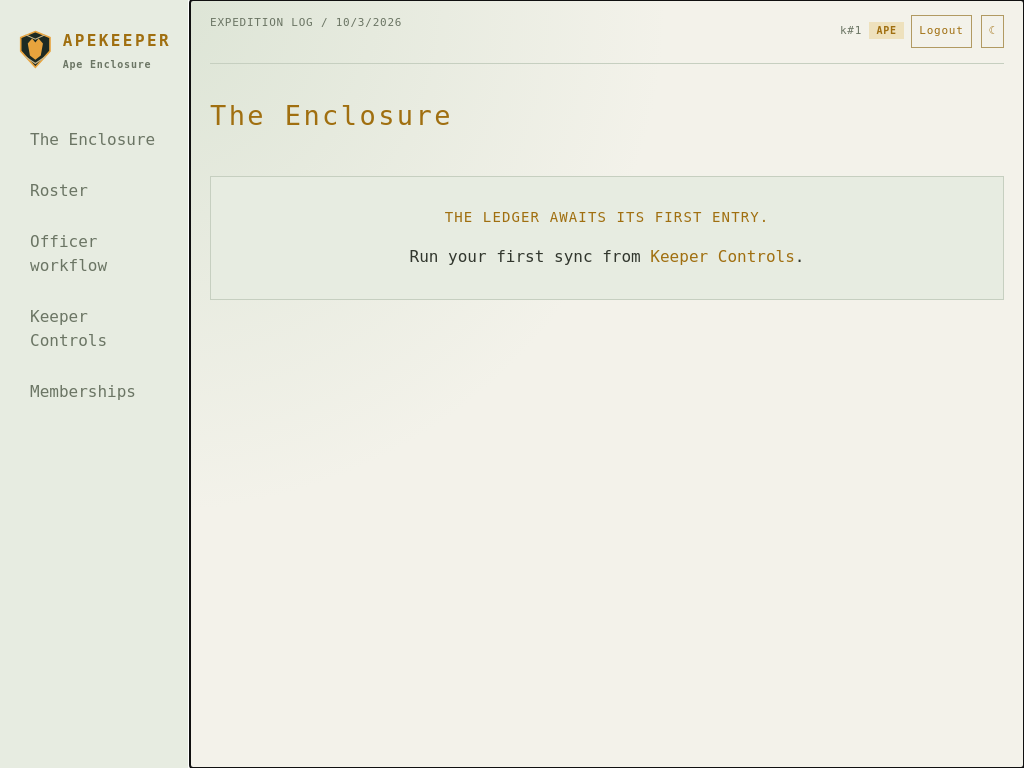
Test: App resilience and navigation › exposes logout failures instead of leaving a rejected promise
The width and height of the screenshot is (1024, 768).
What coordinates should you click on to do the following:
click the button "Logout"
I would click on:
 (941, 31)
Its box is [911,15,972,48].
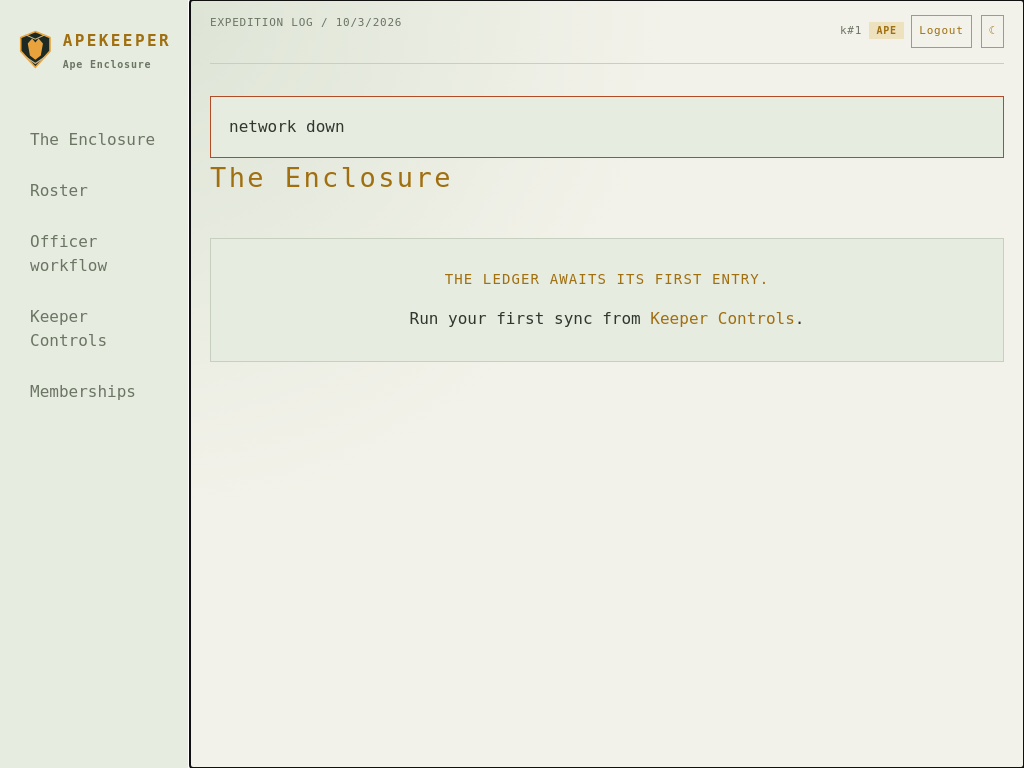
Now the message "network down" is shown, box [210,96,1004,158]
